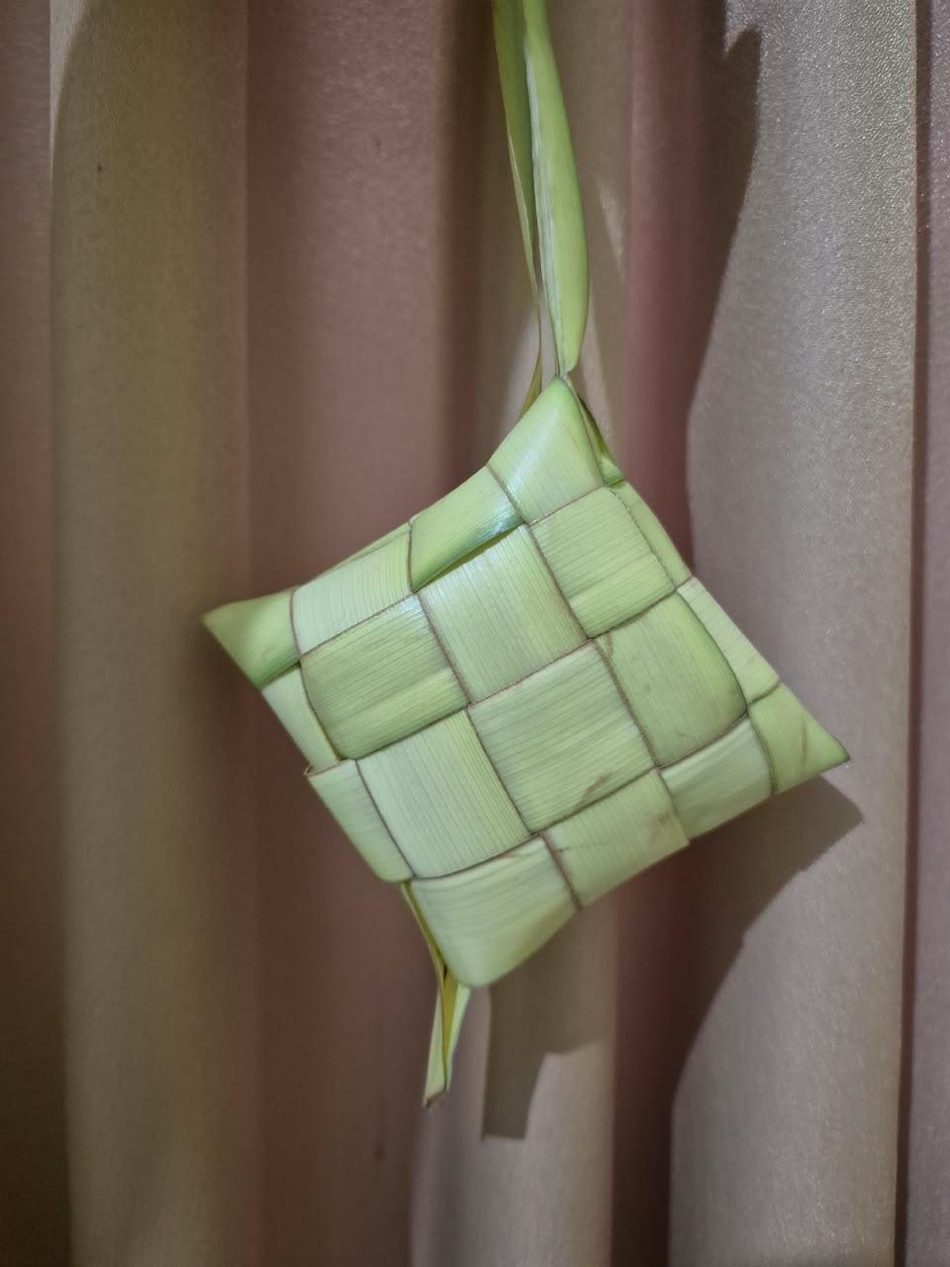Tipat Nasi: (206, 378, 844, 985)
